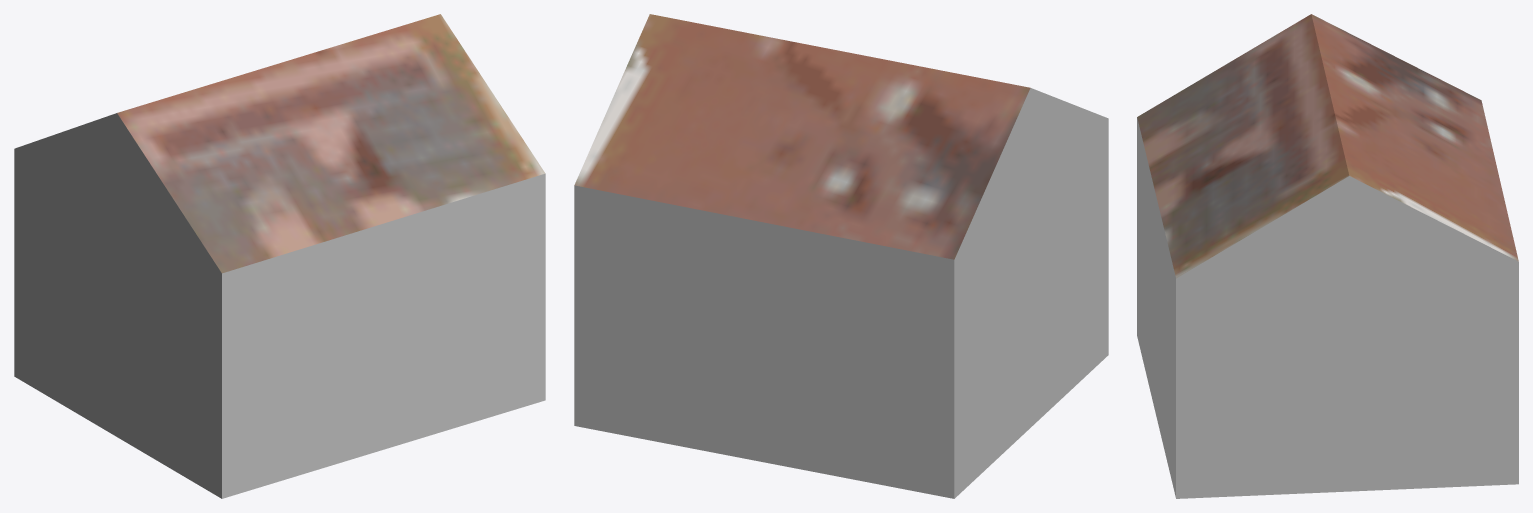
File: DEBW_0010007TxdN.gltf
The picture shows the model from 3 angles, left to right: view 1: azimuth 30°, elevation 25°; view 2: azimuth 150°, elevation 25°; view 3: azimuth 270°, elevation 25°; orthographic projection. The views are drawn at different scales.
Parts seen in each view (by area): view 1: Z_UP; view 2: Z_UP; view 3: Z_UP.
Part boxes in pixels (<box>): Z_UP: <box>14,14,545,498</box>; Z_UP: <box>574,14,1108,498</box>; Z_UP: <box>1137,14,1518,498</box>.
Bounding box in the file's own units: 12.47 × 10.36 × 11.35.
2 materials, 1 textured.
